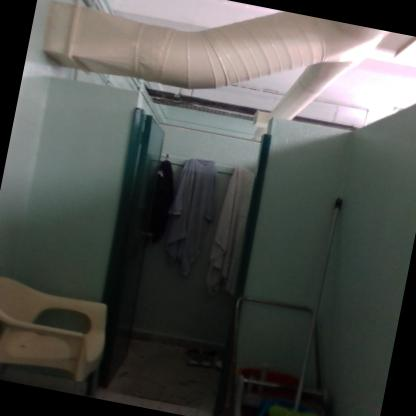open: (81, 79, 290, 387)
